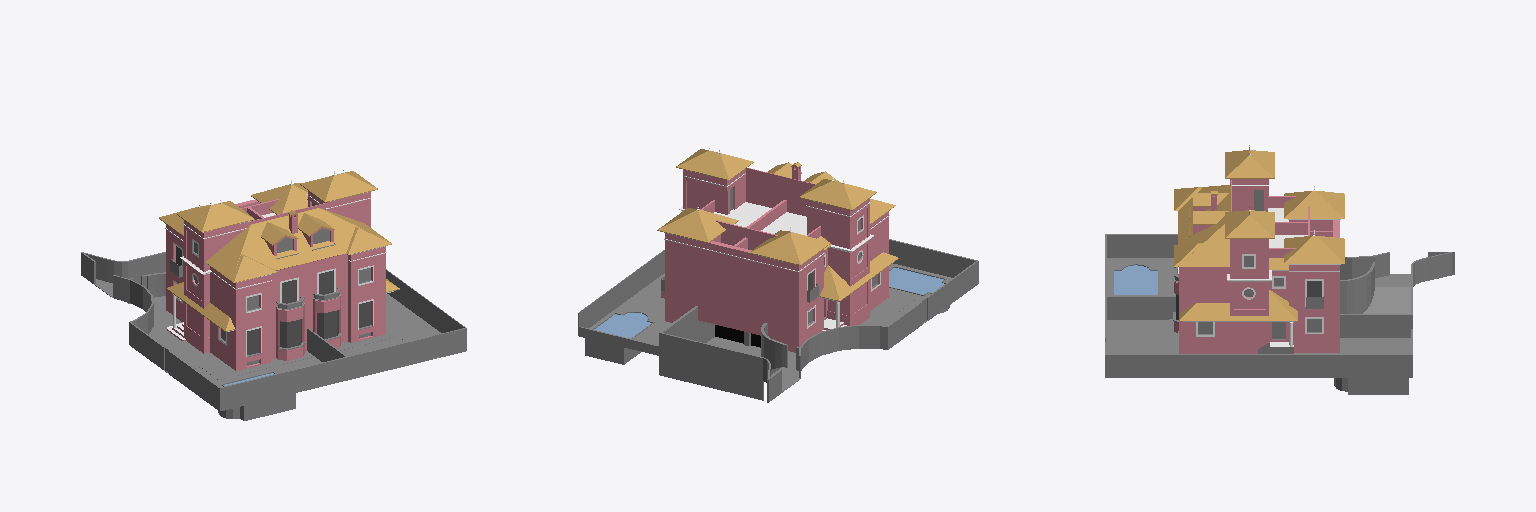
The model's file is marquesadoExt.obj.
3 renders of one model, left to right at view 1: azimuth 30°, elevation 25°; view 2: azimuth 150°, elevation 25°; view 3: azimuth 270°, elevation 25°, orthographic.
Visible parts, largest first — view 1: Object52, Object66, casa01_tejado_MAKESHADOW01, Object63, Object56, Object65, Object62, Object55, Object61; view 2: Object52, Object66, casa01_tejado_MAKESHADOW01, Object65, Object54, Object62, Object63, casa01_piscinaB01, casa01_piscina01, Object64; view 3: Object66, Object52, casa01_tejado_MAKESHADOW01, Object65, Object64, Object62, casa01_piscinaB01, Object55, Object57.
Boxes of the visible parts, box(x1,y1,x2,y2) form: Object52: box(166, 191, 385, 370); Object66: box(81, 252, 466, 410); casa01_tejado_MAKESHADOW01: box(159, 171, 399, 331); Object63: box(136, 296, 440, 379); Object56: box(176, 246, 370, 354); Object65: box(170, 294, 465, 411); Object62: box(218, 371, 295, 420); Object55: box(172, 170, 390, 356); Object61: box(165, 259, 440, 372); Object52: box(661, 166, 888, 352); Object66: box(578, 239, 978, 402); casa01_tejado_MAKESHADOW01: box(657, 149, 898, 301); Object65: box(579, 263, 977, 355); Object54: box(714, 202, 846, 330); Object62: box(585, 266, 949, 364); Object63: box(788, 293, 927, 369); casa01_piscinaB01: box(889, 268, 943, 294); casa01_piscina01: box(594, 313, 650, 338); Object64: box(706, 337, 799, 392); Object66: box(1105, 234, 1454, 377); Object52: box(1174, 179, 1339, 353); casa01_tejado_MAKESHADOW01: box(1174, 150, 1344, 320); Object65: box(1107, 258, 1410, 377); Object64: box(1363, 274, 1410, 313); Object62: box(1113, 264, 1408, 394); casa01_piscinaB01: box(1114, 265, 1157, 294); Object55: box(1196, 145, 1323, 346); Object57: box(1198, 256, 1321, 333).
Size of the model in its own units: 22.55 by 14.2 by 27.59.